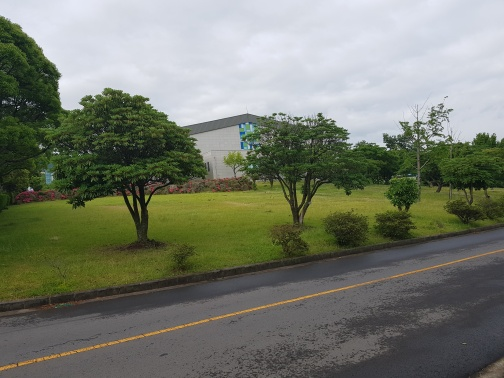Gym: (183, 108, 281, 180)
